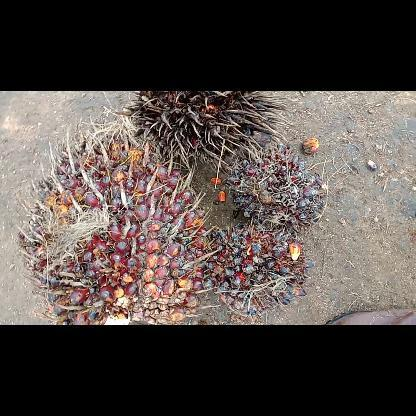Janjang kosong: (120, 90, 294, 174)
TBS abnormal: (220, 140, 330, 236), (204, 222, 309, 316)
TBS masak: (15, 116, 210, 324)
